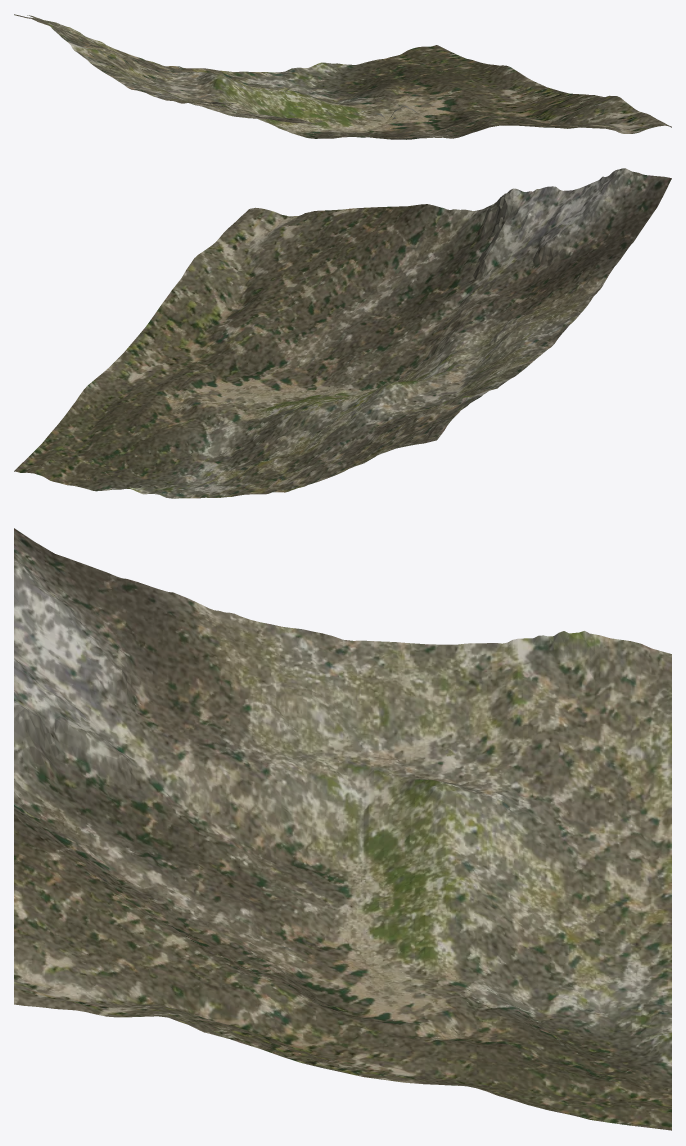
The picture shows the model from 3 angles, top to bottom: view 1: azimuth 30°, elevation 25°; view 2: azimuth 150°, elevation 25°; view 3: azimuth 270°, elevation 25°; orthographic projection. The views are drawn at different scales.
Size of the model in its own units: 500 by 255 by 481.
1 material, 1 textured.
